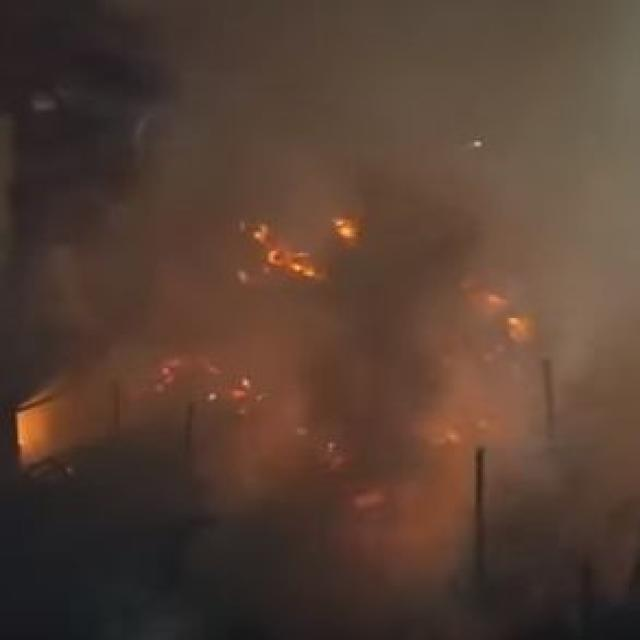Fire: (153, 330, 275, 416), (6, 372, 92, 478), (228, 212, 324, 287), (350, 432, 424, 527), (463, 282, 542, 346), (422, 400, 480, 451), (330, 202, 370, 250)
Smoke: (180, 8, 633, 188), (480, 191, 632, 281)
